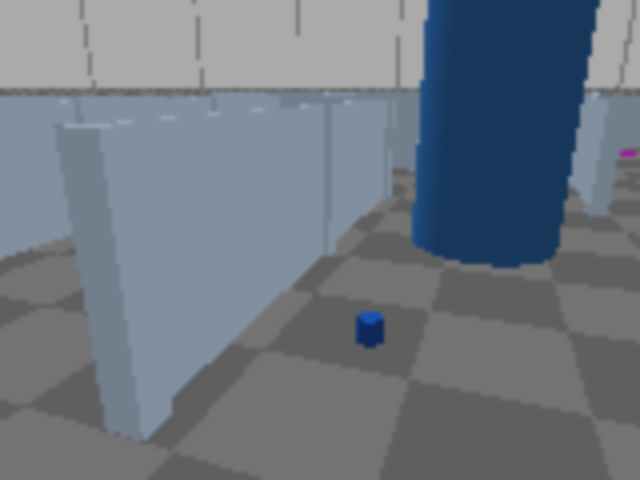puck: (358, 311, 383, 346)
